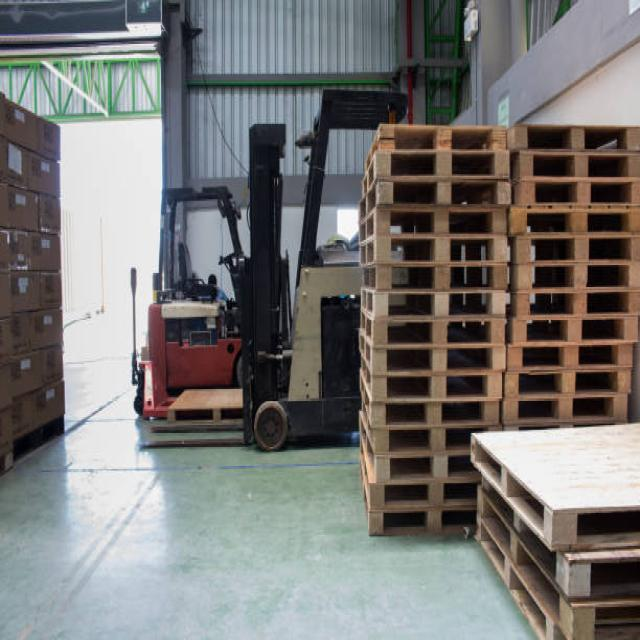Wooden-Pallets: (514, 171, 640, 213), (514, 120, 640, 160), (369, 369, 501, 405), (374, 232, 508, 266), (510, 203, 640, 238), (368, 150, 509, 181), (516, 147, 640, 182), (372, 315, 501, 348), (371, 204, 505, 235), (372, 264, 509, 294), (374, 120, 506, 151), (372, 178, 508, 208), (374, 294, 508, 318)
